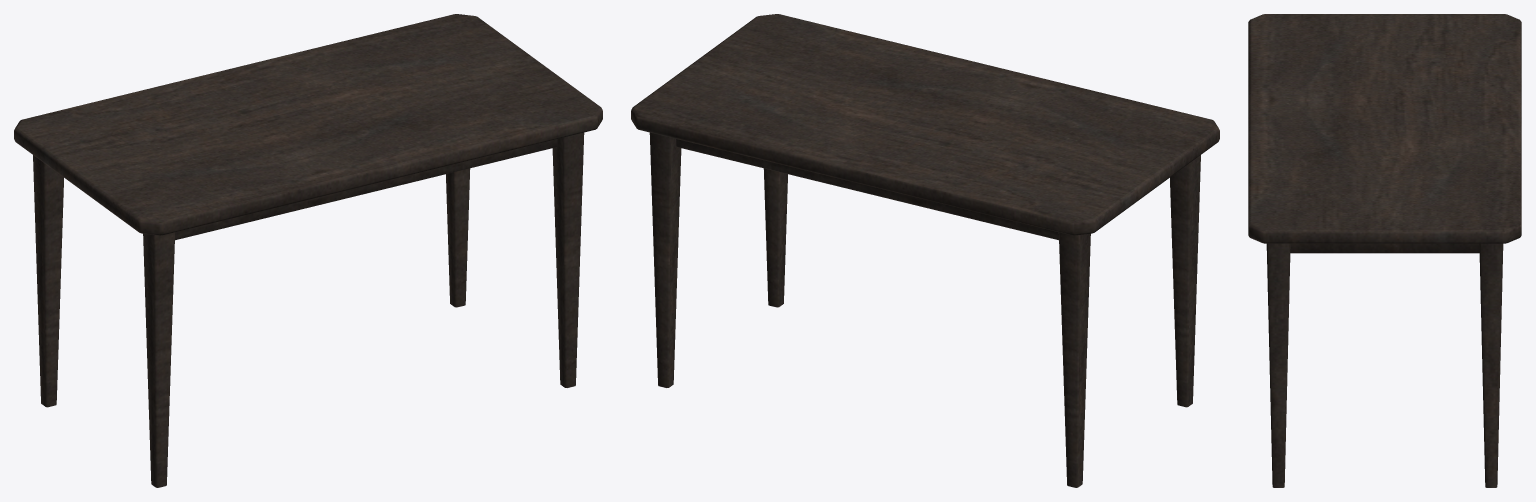
File: table_large_1.obj
3 views of the same model, side by side, from view 1: azimuth 30°, elevation 25°; view 2: azimuth 150°, elevation 25°; view 3: azimuth 270°, elevation 25° (orthographic). The views are drawn at different scales.
Visible parts, largest first — view 1: table_large_1; view 2: table_large_1; view 3: table_large_1.
Boxes of the visible parts, x1,y1,x2,y2 form: table_large_1: (14, 14, 602, 487); table_large_1: (631, 14, 1219, 487); table_large_1: (1248, 14, 1521, 487).
Size of the model in its own units: 1.7 by 0.97 by 0.9.
